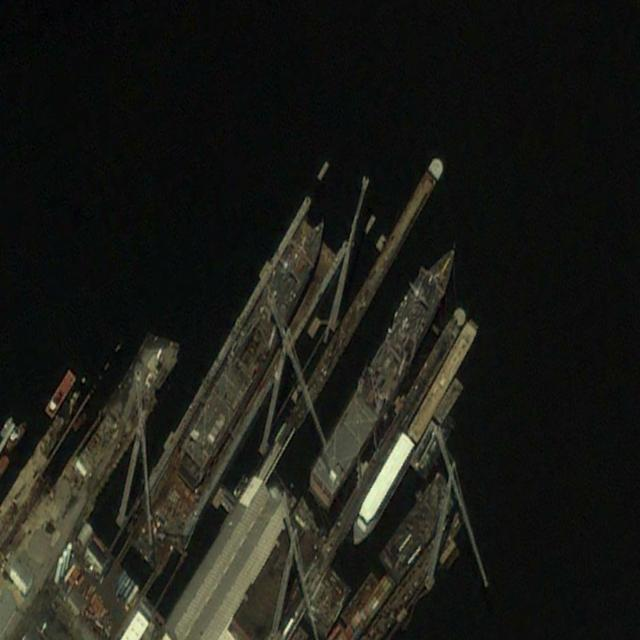Landing: (165, 206, 341, 495), (301, 231, 468, 514)
Other Ship: (344, 430, 417, 550)
